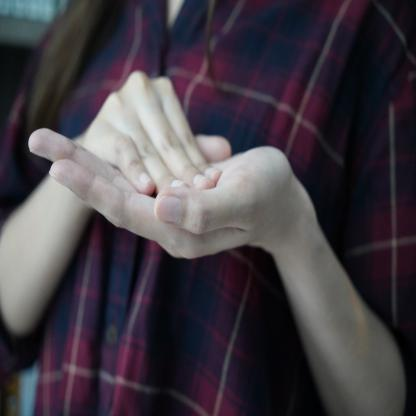Love: (27, 64, 310, 262)
